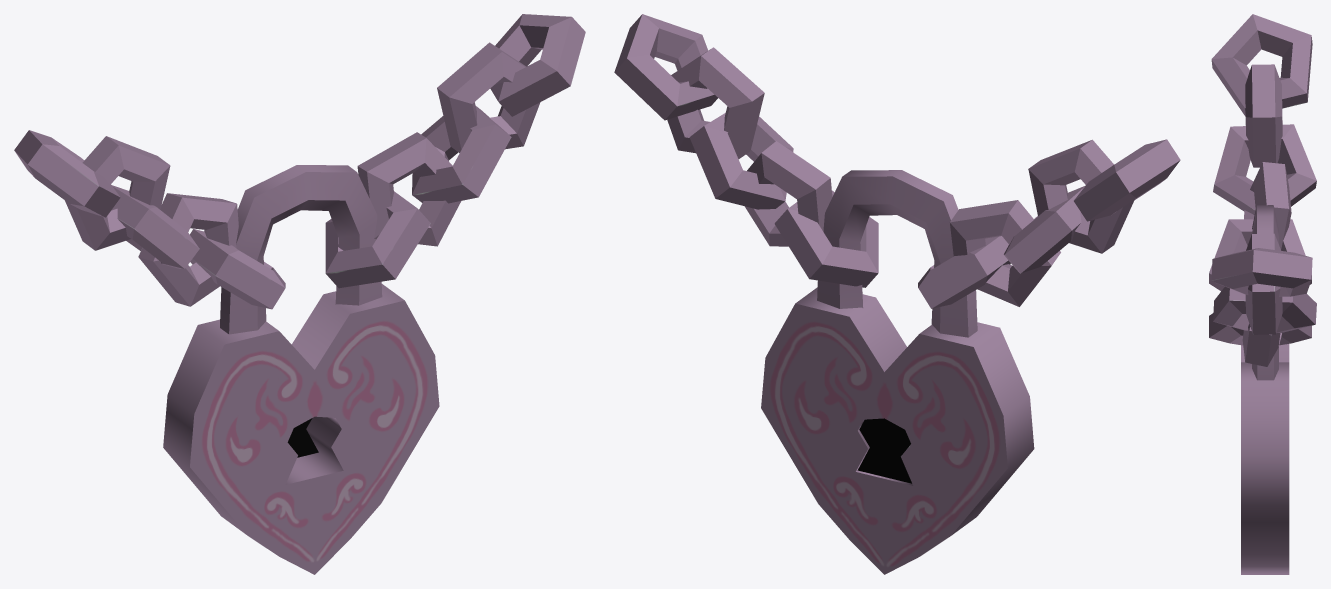
File: Padlockandchainsmesh_gamejam2024.fbx
3 renders of one model, left to right at view 1: azimuth 30°, elevation 25°; view 2: azimuth 150°, elevation 25°; view 3: azimuth 270°, elevation 25°, orthographic. The views are drawn at different scales.
Parts seen in each view (by area): view 1: polySurface67, polySurface68, polySurface65, polySurface71, polySurface72, polySurface63, polySurface62, polySurface70, polySurface73, polySurface64, polySurface66, polySurface69; view 2: polySurface67, polySurface68, polySurface65, polySurface71, polySurface62, polySurface63, polySurface73, polySurface72, polySurface70, polySurface64, polySurface66, polySurface69 (+1 smaller); view 3: polySurface67, polySurface64, polySurface69, polySurface65, polySurface63, polySurface62, polySurface71, polySurface73, polySurface66, polySurface68, polySurface70, polySurface72.
Part boxes in pixels (x1,y1,x2,y2): polySurface67: (163,284,439,574); polySurface68: (220,165,382,334); polySurface65: (490,14,585,116); polySurface71: (437,42,540,152); polySurface72: (325,191,430,288); polySurface63: (65,136,170,250); polySurface62: (412,106,511,203); polySurface70: (357,132,461,246); polySurface73: (138,193,238,306); polySurface64: (14,130,120,217); polySurface66: (190,229,285,309); polySurface69: (111,185,199,268); polySurface67: (761,287,1034,574); polySurface68: (817,170,977,337); polySurface65: (614,14,717,120); polySurface71: (667,47,764,159); polySurface62: (689,113,793,209); polySurface63: (1028,139,1134,253); polySurface73: (950,200,1060,306); polySurface72: (774,190,878,287); polySurface70: (745,141,832,246); polySurface64: (1074,139,1180,221); polySurface66: (918,236,1010,308); polySurface69: (1003,185,1085,273); polySurface67: (1241,344,1289,574); polySurface64: (1211,14,1312,116); polySurface69: (1213,124,1316,214); polySurface65: (1211,248,1312,296); polySurface63: (1245,64,1282,167); polySurface62: (1213,286,1316,332); polySurface71: (1245,233,1282,334); polySurface73: (1244,162,1291,249); polySurface66: (1209,219,1311,290); polySurface68: (1252,205,1278,380); polySurface70: (1242,324,1281,366); polySurface72: (1209,313,1311,345).
Bounding box in the file's own units: 3.3 × 2.77 × 0.6115.
